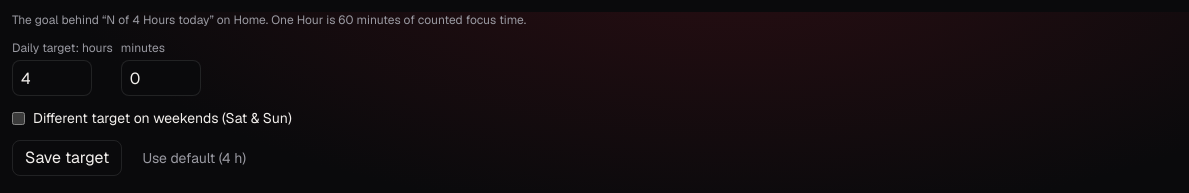
Test case: FocusTargetSettings › the optimistic 'Saved.' flips to the error when the server refuses
The image size is (1189, 193).
Click the button "Save target": coordinates (67, 158) [12, 140, 122, 176]
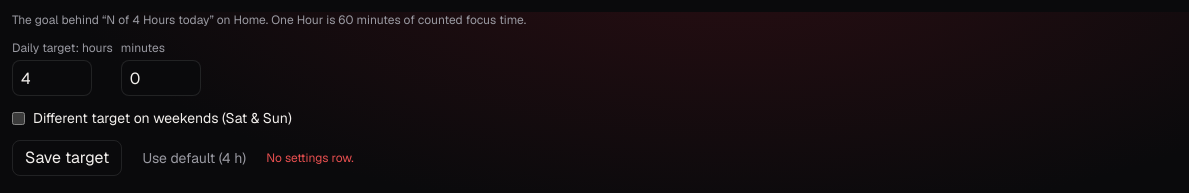
Expected: the text "No settings row." is shown, [266, 150, 354, 166]
